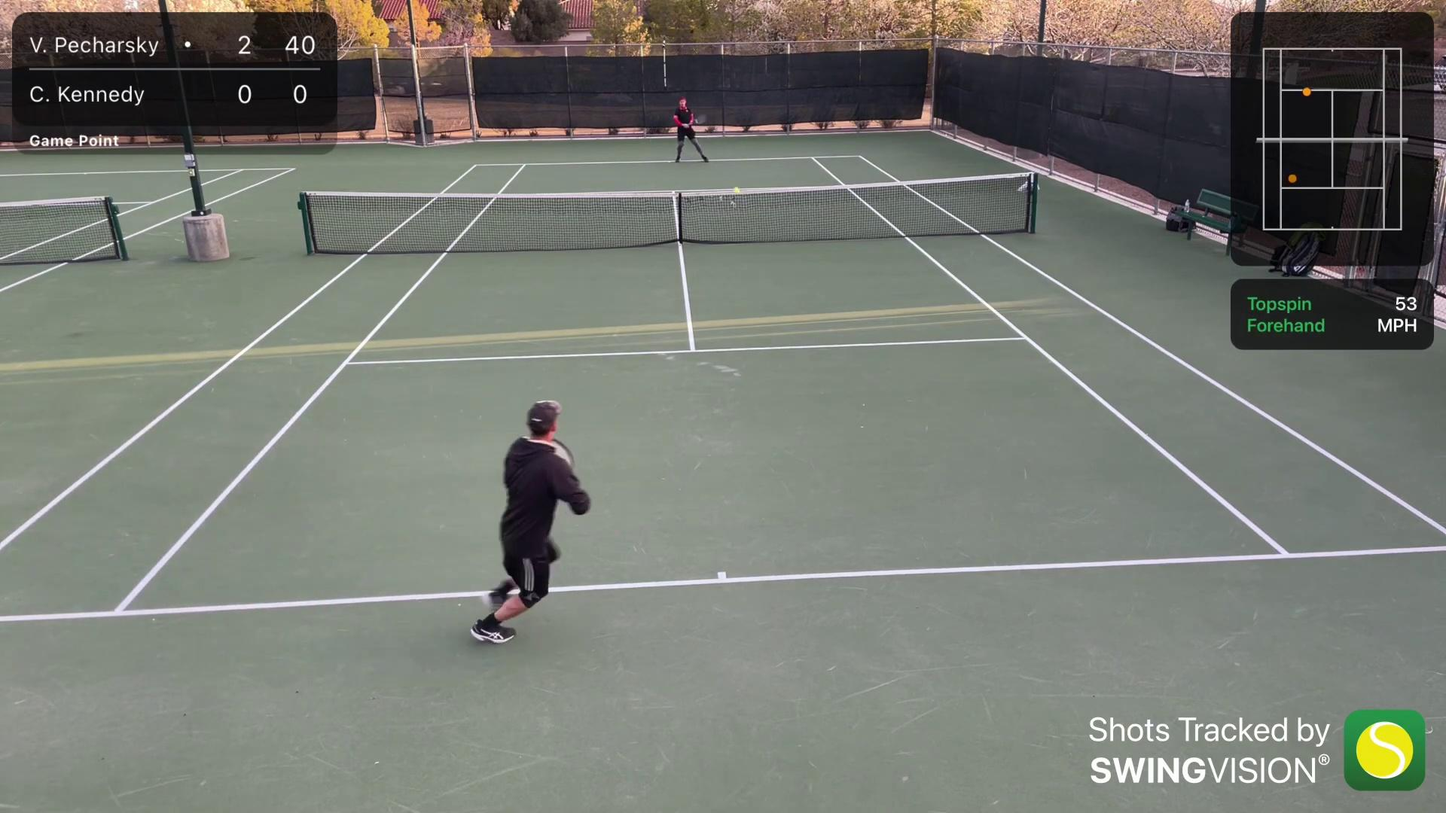ball: (732, 185, 741, 195)
